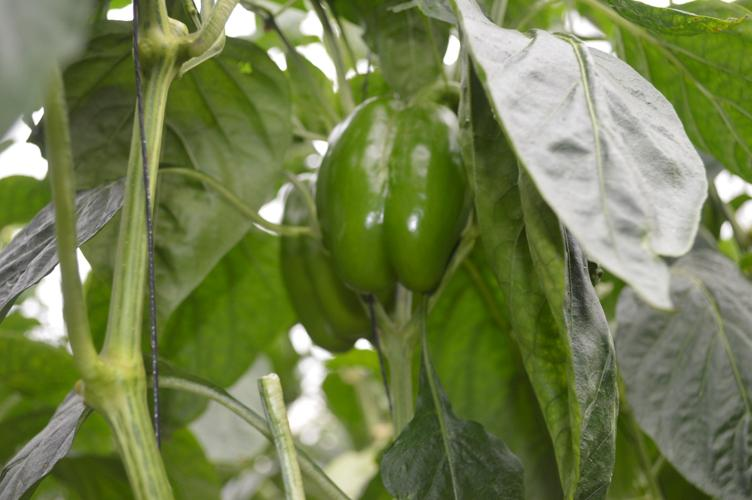BellPepper: (313, 100, 468, 281), (268, 184, 365, 347)
